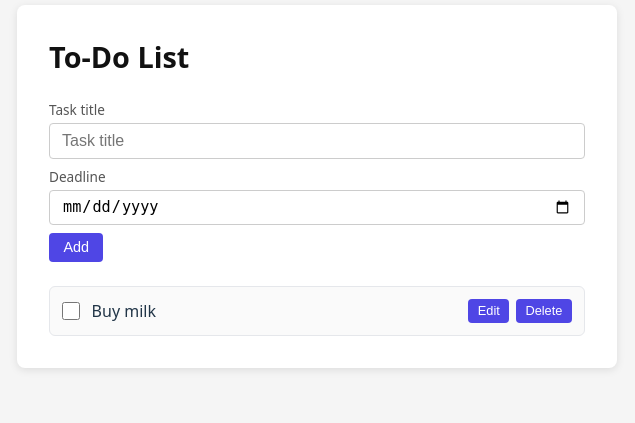
Test case: Error handling › shows an error when deleting a task fails
Expected: the text "Buy milk" is shown, [92, 300, 156, 322]
Click the button "Delete" at [544, 311], box [516, 299, 572, 323]
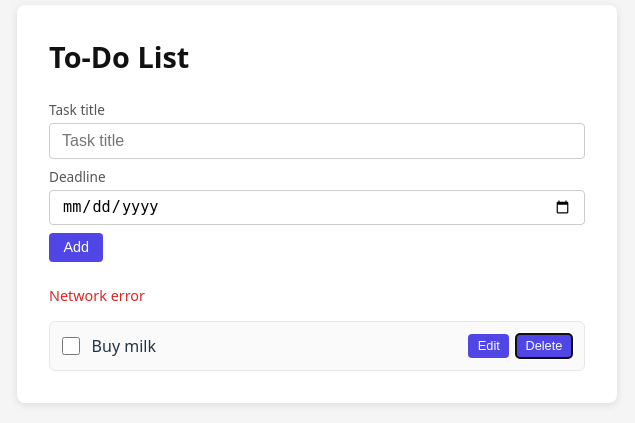
Result: the text "Network error" is shown at [49, 286, 145, 305]
